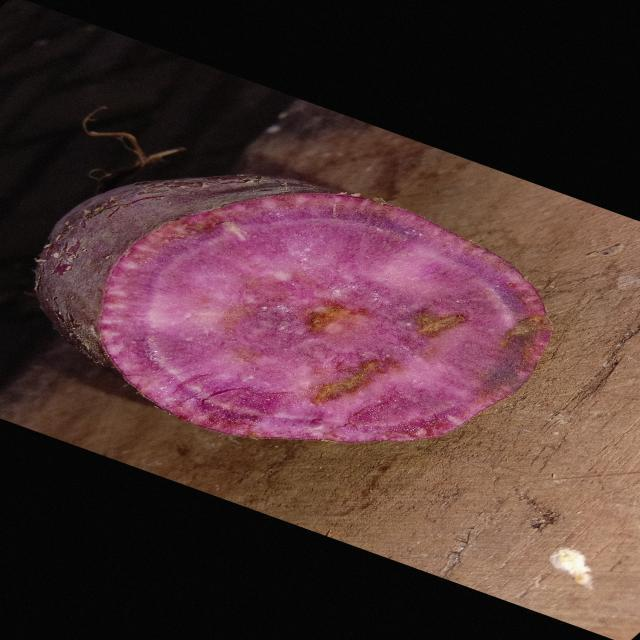Sick Sweet Potato_Tuber Rot: (100, 194, 551, 441)
